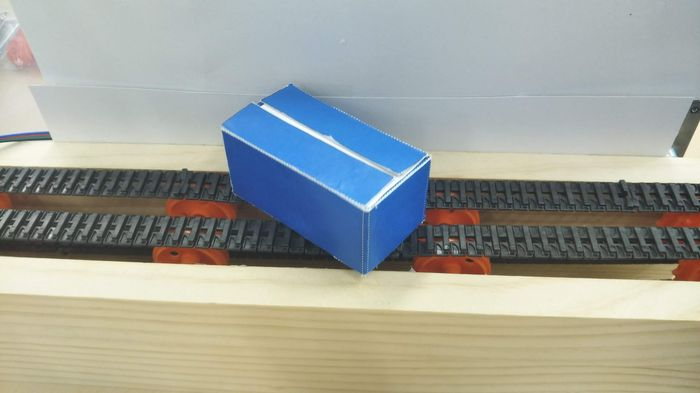box3: (215, 81, 432, 274)
